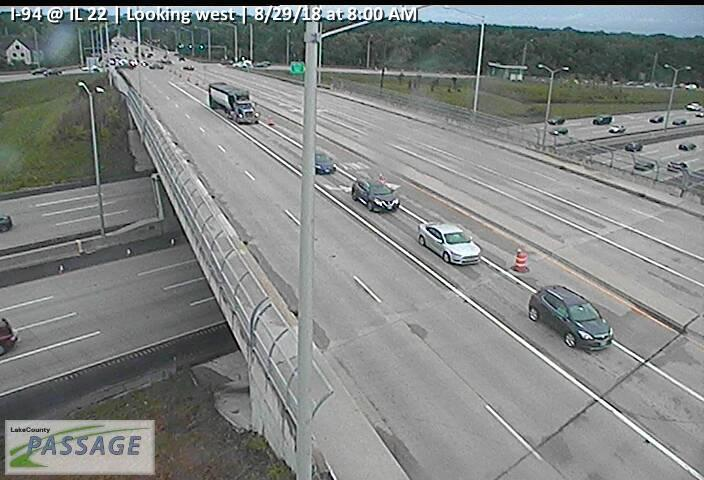SUV: (527, 286, 614, 352), (350, 176, 400, 214)
Sedan: (417, 220, 481, 265), (312, 150, 338, 177), (592, 114, 612, 125), (549, 127, 568, 136), (624, 142, 642, 151), (608, 124, 626, 133), (649, 113, 665, 123), (549, 116, 564, 125), (672, 118, 685, 124)
Truck: (208, 82, 258, 125)
